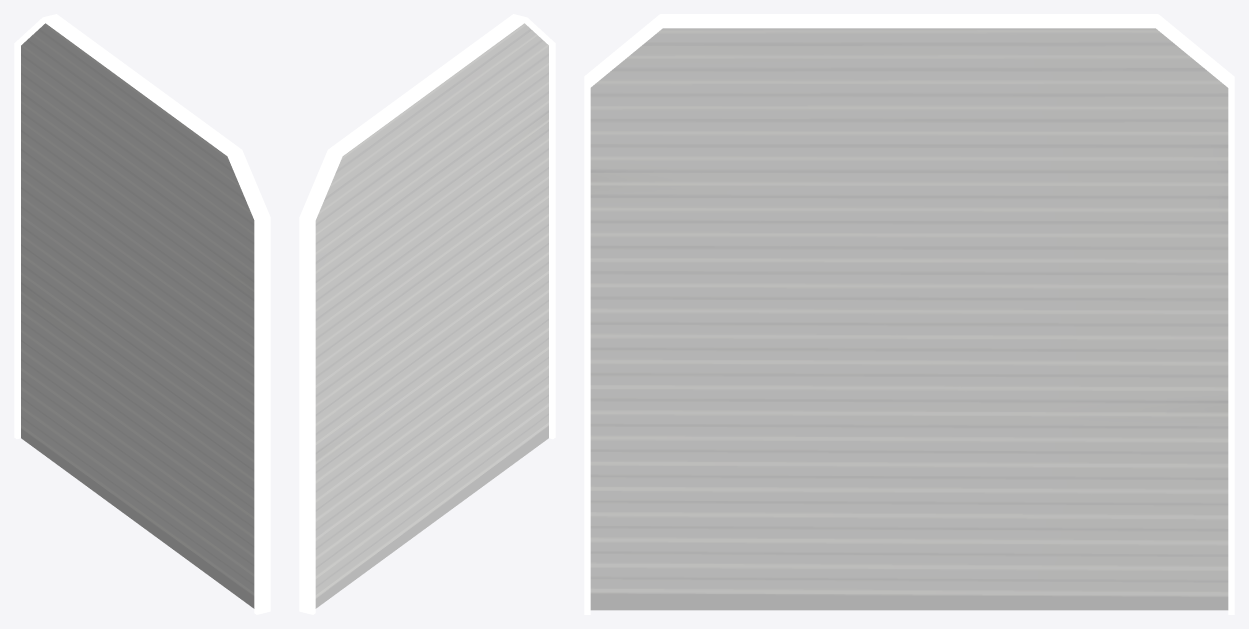
File: Trim-Roll-Up11.d9f7fff7.gltf
3 renders of one model, left to right at view 1: azimuth 30°, elevation 25°; view 2: azimuth 150°, elevation 25°; view 3: azimuth 270°, elevation 25°, orthographic. The views are drawn at different scales.
Parts seen in each view (by area): view 1: Plane, Cube.004; view 2: Plane, Cube.004; view 3: Plane, Cube.004.
Part boxes in pixels (<box>): Plane: <box>21,23,254,608</box>; Cube.004: <box>14,14,270,614</box>; Plane: <box>315,23,548,608</box>; Cube.004: <box>299,14,555,614</box>; Plane: <box>590,28,1228,610</box>; Cube.004: <box>584,14,1234,614</box>.
Size of the model in its own units: 0.2001 by 6.09 by 6.07.
6 materials, 1 textured.
